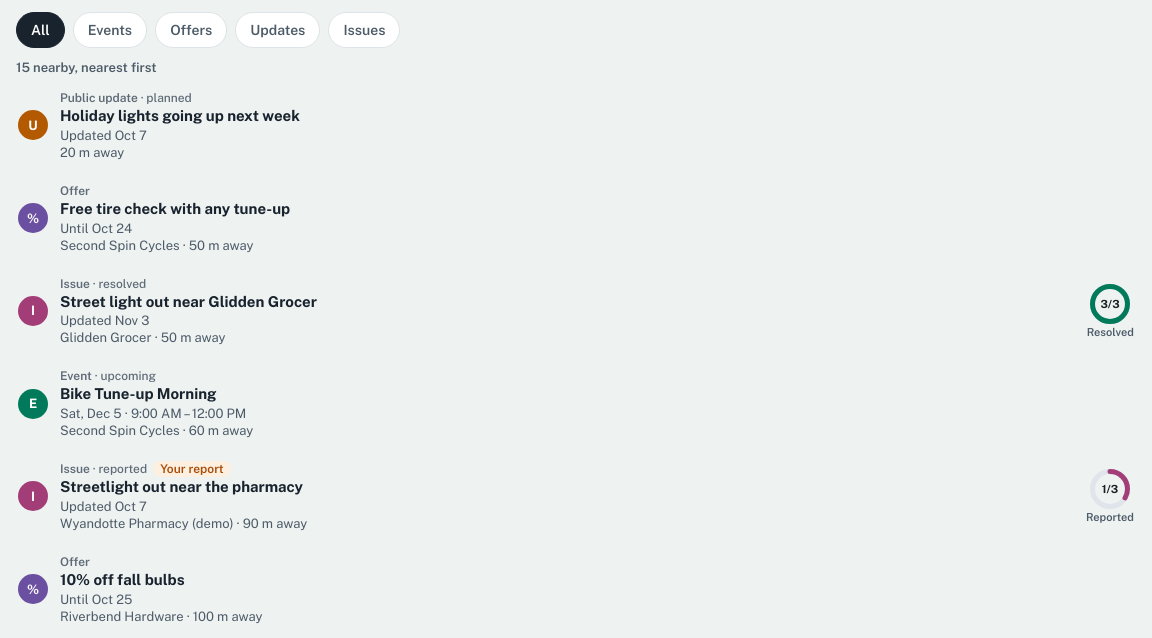
Test: task 11: activity cards › Around you lists nearby activity and filters to offers
Expected: the text "15 nearby, nearest first" is shown, [16,60,157,75]
Click the button "Offers". click: (191, 30)
box: [155,12,227,48]
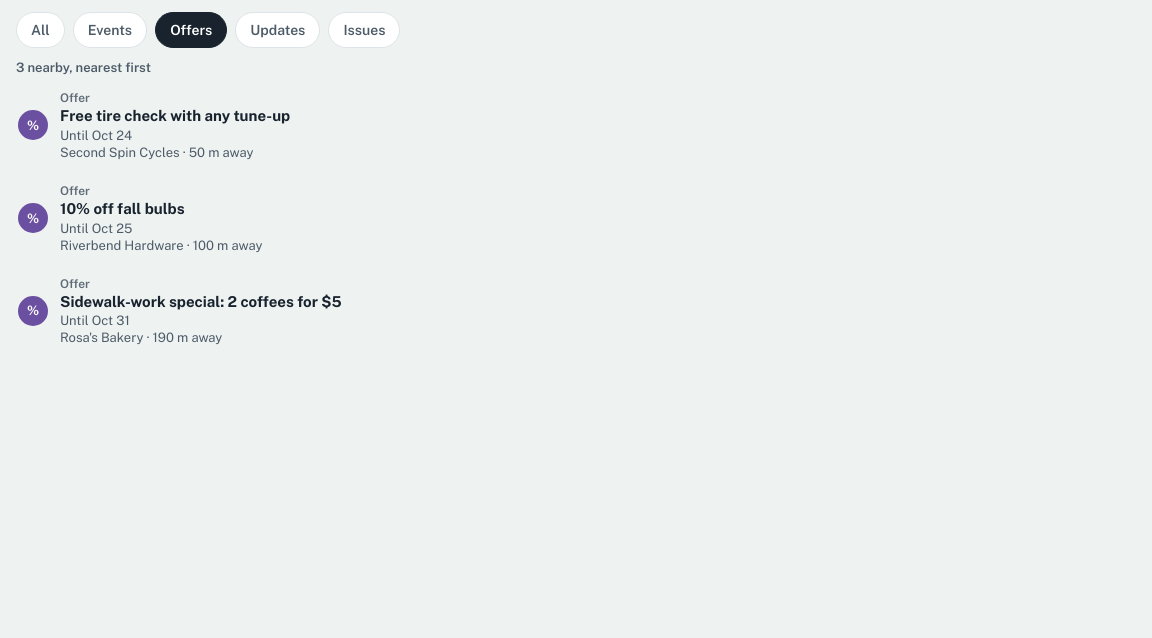
Now the number of list items is 3, box [8,81,1144,170]; [8,174,1144,263]; [8,266,1144,355]
